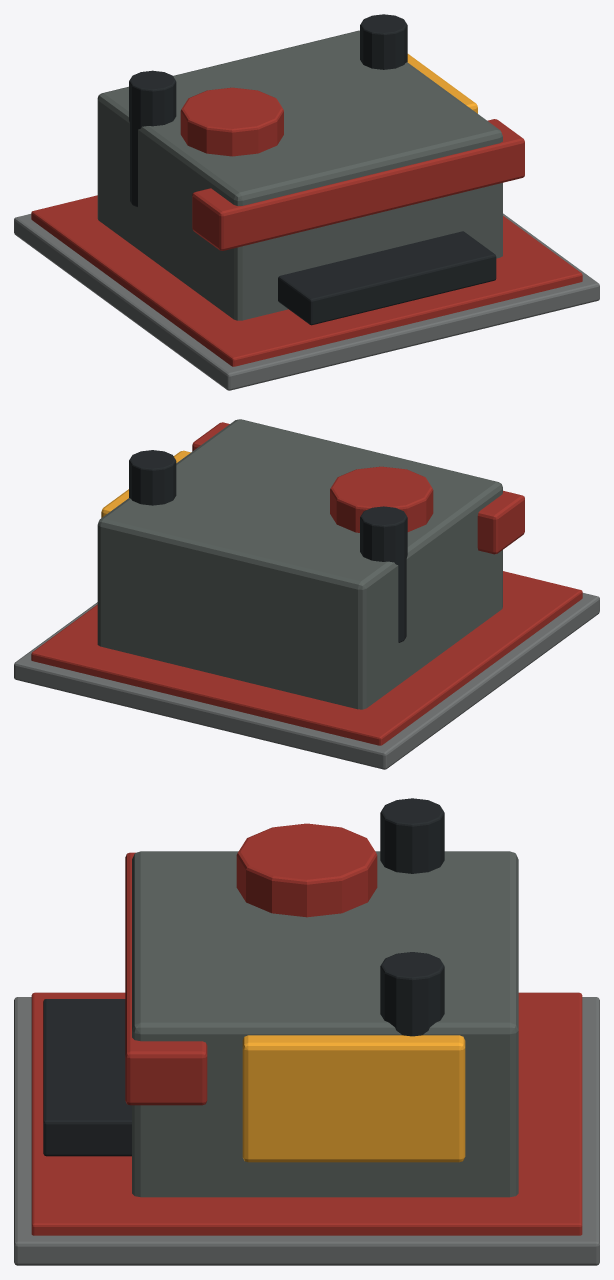
The model's file is SM_Soviet_SU_Refinery.fbx.
3 renders of one model, top to bottom at view 1: azimuth 30°, elevation 25°; view 2: azimuth 150°, elevation 25°; view 3: azimuth 270°, elevation 25°, orthographic. The views are drawn at different scales.
Visible parts, largest first — view 1: SM_Soviet_SU_Refinery_MainMass, SM_Soviet_SU_Refinery_FoundationTrim, SM_Soviet_SU_Refinery, SM_Soviet_SU_Refinery_ArmourBrow, SM_Soviet_SU_Refinery_Conveyor, SM_Soviet_SU_Refinery_Processor, SM_Soviet_SU_Refinery_Exhaust_-1, SM_Soviet_SU_Refinery_Exhaust_+1, SM_Soviet_SU_Refinery_OreHopper; view 2: SM_Soviet_SU_Refinery_MainMass, SM_Soviet_SU_Refinery_FoundationTrim, SM_Soviet_SU_Refinery, SM_Soviet_SU_Refinery_Processor, SM_Soviet_SU_Refinery_Exhaust_-1, SM_Soviet_SU_Refinery_ArmourBrow, SM_Soviet_SU_Refinery_Exhaust_+1; view 3: SM_Soviet_SU_Refinery_MainMass, SM_Soviet_SU_Refinery_FoundationTrim, SM_Soviet_SU_Refinery_OreHopper, SM_Soviet_SU_Refinery, SM_Soviet_SU_Refinery_Conveyor, SM_Soviet_SU_Refinery_Processor, SM_Soviet_SU_Refinery_ArmourBrow, SM_Soviet_SU_Refinery_Exhaust_+1, SM_Soviet_SU_Refinery_Exhaust_-1.
Boxes of the visible parts, left/top/right/bottom form: SM_Soviet_SU_Refinery_MainMass: left=97, top=30, right=502, bottom=320; SM_Soviet_SU_Refinery_FoundationTrim: left=31, top=195, right=582, bottom=366; SM_Soviet_SU_Refinery: left=14, top=213, right=599, bottom=390; SM_Soviet_SU_Refinery_ArmourBrow: left=192, top=119, right=524, bottom=250; SM_Soviet_SU_Refinery_Conveyor: left=278, top=231, right=496, bottom=325; SM_Soviet_SU_Refinery_Processor: left=180, top=87, right=283, bottom=156; SM_Soviet_SU_Refinery_Exhaust_-1: left=129, top=70, right=176, bottom=206; SM_Soviet_SU_Refinery_Exhaust_+1: left=360, top=14, right=407, bottom=69; SM_Soviet_SU_Refinery_OreHopper: left=407, top=54, right=477, bottom=113; SM_Soviet_SU_Refinery_MainMass: left=97, top=419, right=502, bottom=709; SM_Soviet_SU_Refinery_FoundationTrim: left=31, top=571, right=582, bottom=745; SM_Soviet_SU_Refinery: left=14, top=593, right=599, bottom=769; SM_Soviet_SU_Refinery_Processor: left=330, top=466, right=433, bottom=532; SM_Soviet_SU_Refinery_Exhaust_-1: left=360, top=506, right=407, bottom=642; SM_Soviet_SU_Refinery_ArmourBrow: left=192, top=422, right=524, bottom=554; SM_Soviet_SU_Refinery_Exhaust_+1: left=129, top=450, right=176, bottom=505; SM_Soviet_SU_Refinery_MainMass: left=132, top=851, right=518, bottom=1197; SM_Soviet_SU_Refinery_FoundationTrim: left=31, top=992, right=582, bottom=1235; SM_Soviet_SU_Refinery_OreHopper: left=242, top=1035, right=465, bottom=1162; SM_Soviet_SU_Refinery: left=14, top=997, right=599, bottom=1265; SM_Soviet_SU_Refinery_Conveyor: left=43, top=999, right=131, bottom=1156; SM_Soviet_SU_Refinery_Processor: left=236, top=823, right=377, bottom=917; SM_Soviet_SU_Refinery_ArmourBrow: left=125, top=852, right=207, bottom=1105; SM_Soviet_SU_Refinery_Exhaust_+1: left=380, top=952, right=444, bottom=1036; SM_Soviet_SU_Refinery_Exhaust_-1: left=380, top=798, right=444, bottom=873.
Size of what is drawn, in the model's own units: 800 by 800 by 385.
